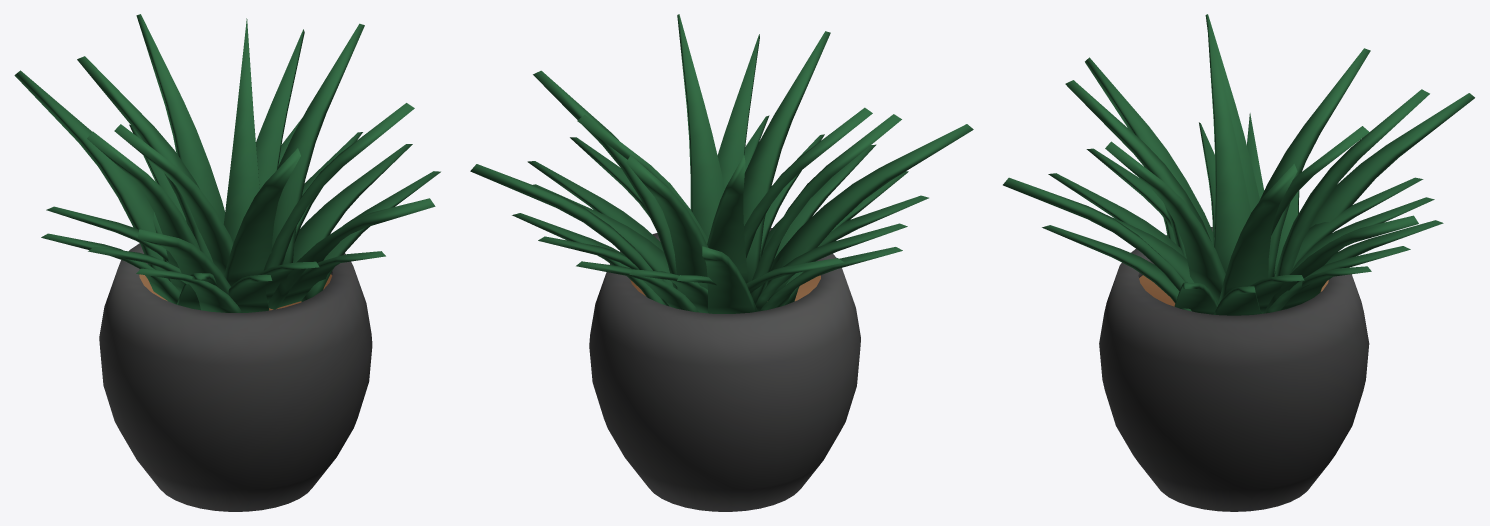
Rendered from plant.fbx.
3 renders of one model, left to right at view 1: azimuth 30°, elevation 25°; view 2: azimuth 150°, elevation 25°; view 3: azimuth 270°, elevation 25°, orthographic.
Visible parts, largest first — view 1: Plane.001; view 2: Plane.001; view 3: Plane.001.
Part boxes in pixels (box(x1,y1,x2,y2)): Plane.001: box(14, 14, 440, 511); Plane.001: box(470, 14, 973, 511); Plane.001: box(1003, 14, 1474, 511).
Bounding box in the file's own units: 472 × 474 × 522.
